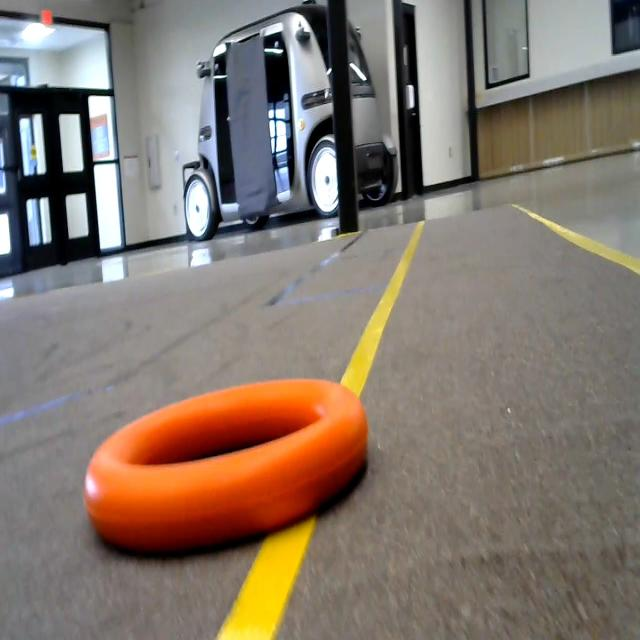note: (80, 375, 390, 548)
